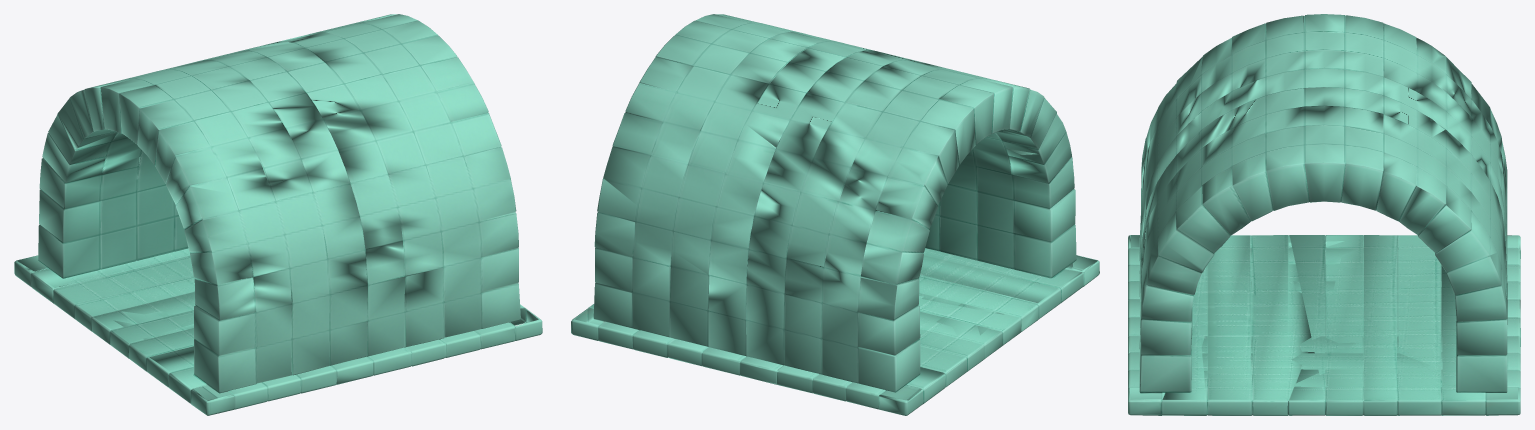
The model's file is tunnel-arch.glb.
The picture shows the model from 3 angles, left to right: view 1: azimuth 30°, elevation 25°; view 2: azimuth 150°, elevation 25°; view 3: azimuth 270°, elevation 25°; orthographic projection.
Size of the model in its own units: 0.9497 by 0.6553 by 0.9482.
1 material, 1 textured.
